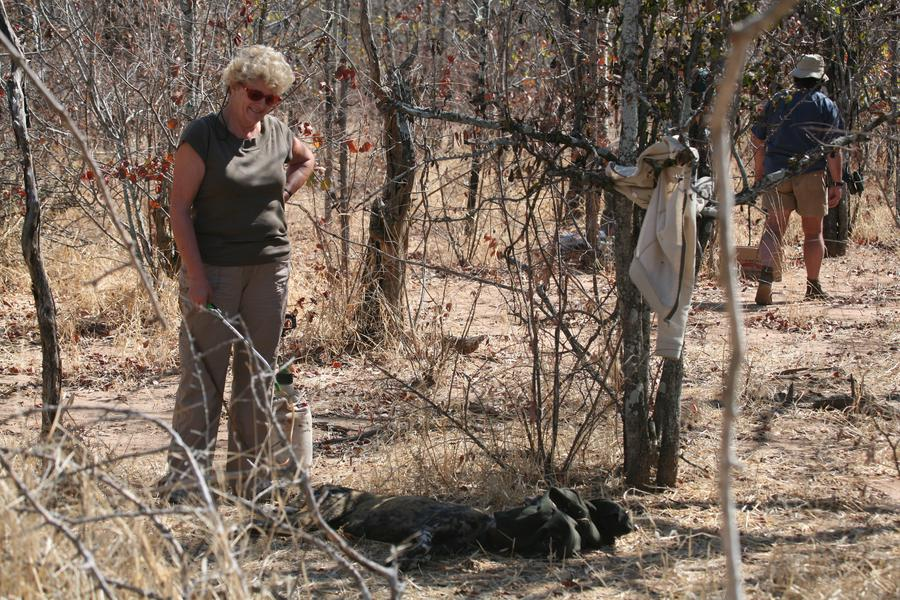wilddog: (305, 475, 484, 564)
